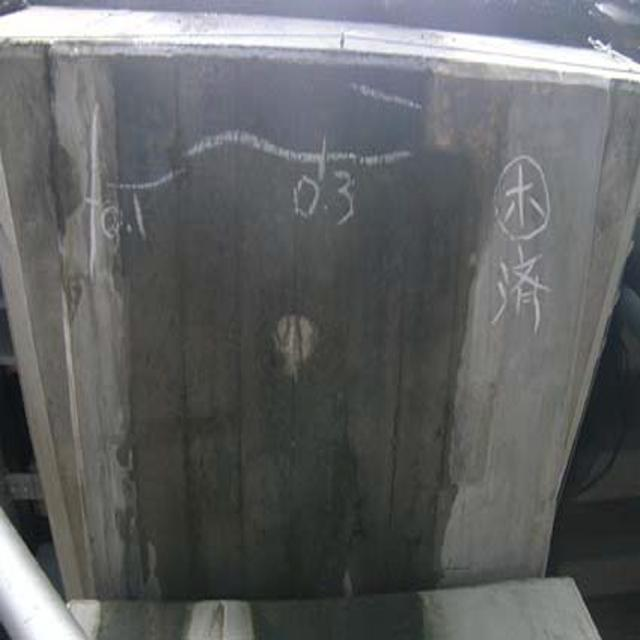leakage: (100, 30, 473, 640)
